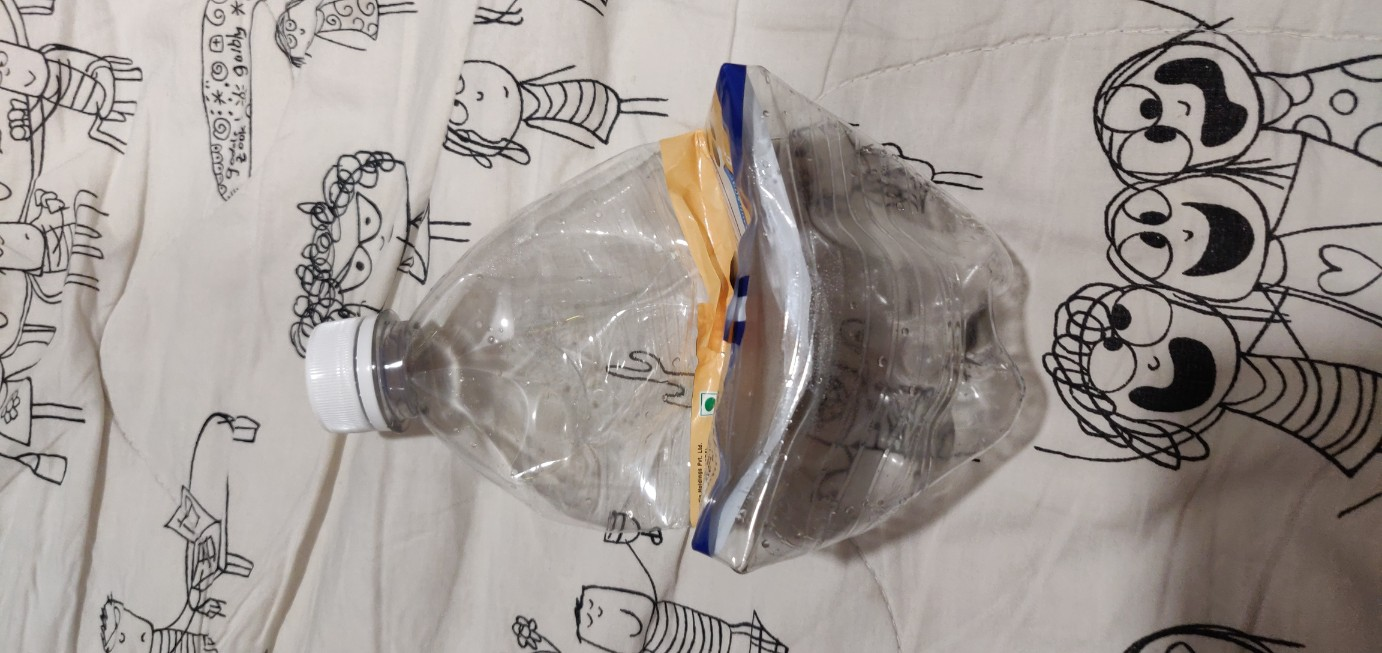Electronics: (273, 45, 1084, 601)
